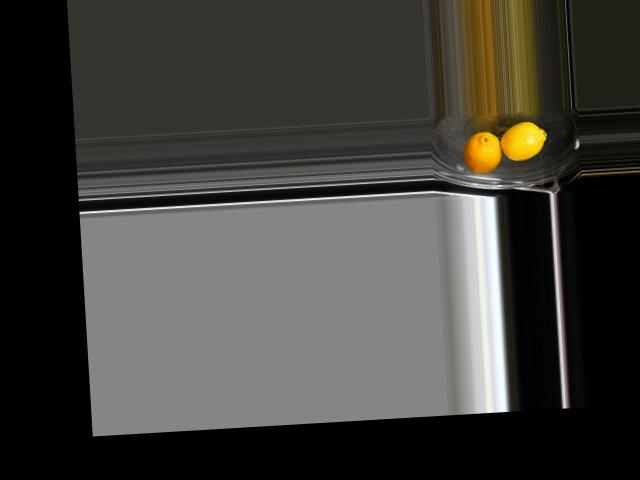lemon: (495, 121, 551, 163)
